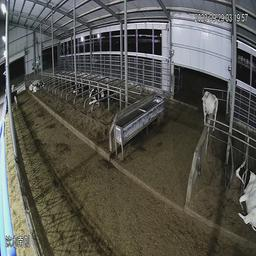cow: (232, 154, 256, 234), (198, 85, 218, 126), (87, 82, 106, 108), (3, 86, 19, 116), (28, 73, 42, 95)
